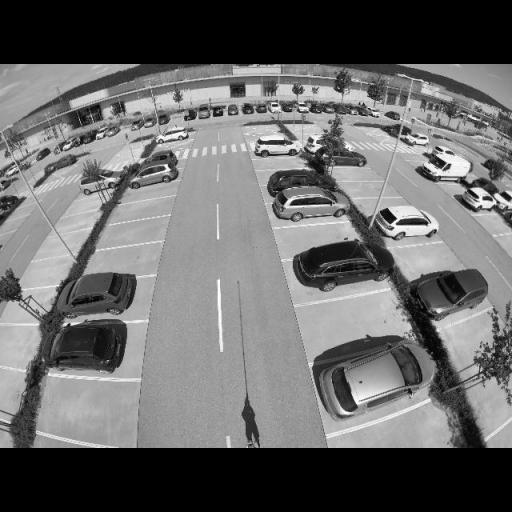busy: (319, 338, 435, 419), (294, 237, 392, 288), (49, 321, 130, 373), (53, 271, 142, 318), (414, 267, 492, 317), (273, 187, 354, 219), (374, 204, 440, 239), (270, 170, 340, 193), (421, 156, 470, 182), (130, 164, 178, 188), (78, 172, 126, 196), (252, 134, 302, 157), (461, 187, 501, 210), (324, 149, 370, 168), (159, 126, 195, 144), (52, 156, 76, 170), (405, 132, 430, 145), (198, 106, 212, 120), (183, 110, 198, 122), (211, 106, 226, 118), (157, 114, 171, 126), (143, 117, 158, 128), (104, 128, 120, 138), (320, 102, 336, 112), (81, 134, 97, 144), (281, 101, 295, 112), (295, 102, 310, 112), (94, 131, 109, 141), (267, 102, 282, 112), (227, 104, 240, 115), (241, 104, 255, 114), (254, 103, 268, 113), (309, 102, 323, 112), (130, 121, 144, 130), (367, 108, 382, 116)
free: (58, 386, 131, 435), (452, 322, 500, 372), (328, 306, 392, 340), (370, 427, 446, 447), (9, 289, 45, 330), (4, 320, 30, 371), (100, 250, 140, 280), (294, 227, 342, 248), (414, 246, 453, 270), (28, 260, 58, 289), (114, 221, 146, 246), (358, 195, 391, 219), (478, 213, 508, 238), (42, 235, 72, 258), (334, 164, 367, 184), (137, 180, 169, 200), (440, 178, 469, 200), (126, 201, 152, 221), (70, 197, 94, 216), (62, 215, 84, 233), (348, 184, 378, 197), (270, 160, 301, 171)
